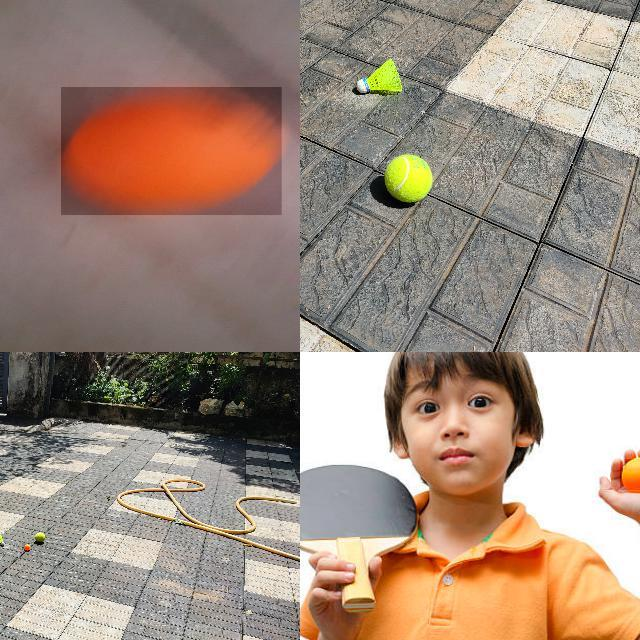ping-pong-ball: (61, 86, 283, 216), (620, 458, 639, 492), (22, 543, 30, 551)
